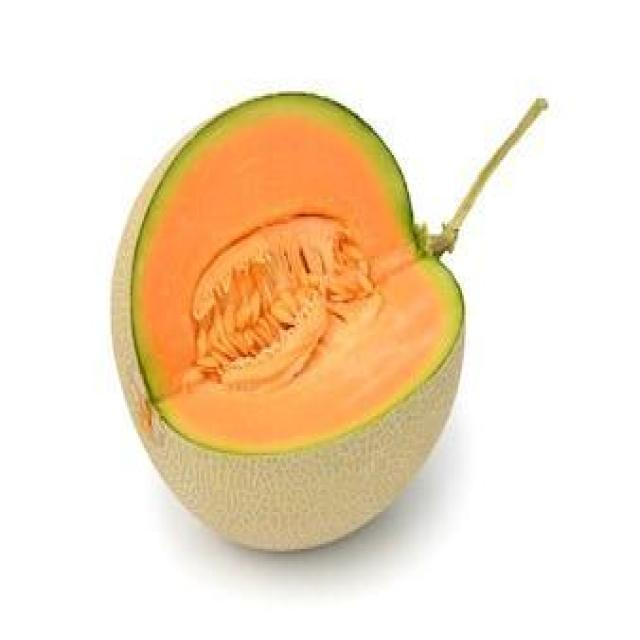cantaloupe: (108, 91, 552, 555)
